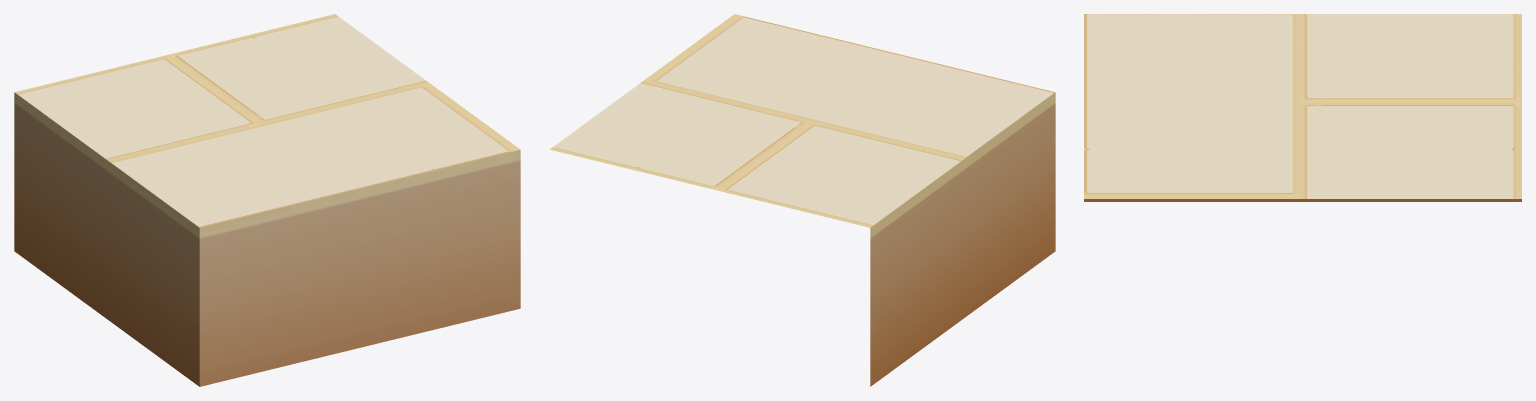
The model's file is my_defaultroom_tile.glb.
3 renders of one model, left to right at view 1: azimuth 30°, elevation 25°; view 2: azimuth 150°, elevation 25°; view 3: azimuth 270°, elevation 25°, orthographic. The views are drawn at different scales.
Visible parts, largest first — view 1: my_defaultroom_tile; view 2: my_defaultroom_tile; view 3: my_defaultroom_tile.
Part boxes in pixels (box(x1,y1,x2,y2)): my_defaultroom_tile: box(14, 14, 520, 386); my_defaultroom_tile: box(550, 14, 1055, 386); my_defaultroom_tile: box(1084, 14, 1521, 201).
Size of the model in its own units: 0.006 by 0.00284 by 0.006.
Materials: 1 (1 with a texture image).
